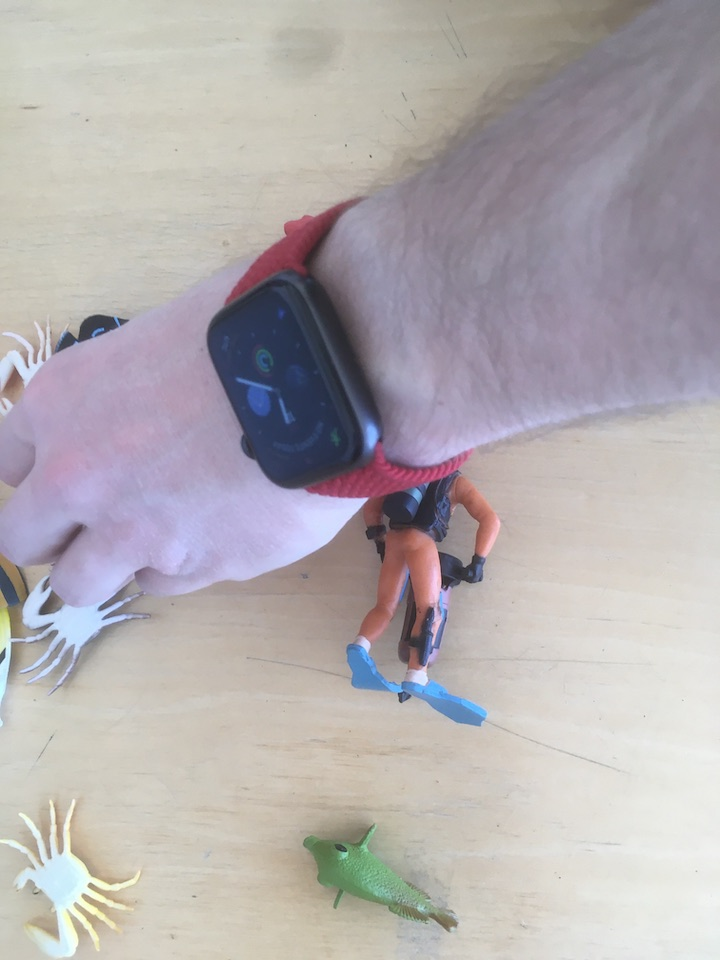crab: (1, 793, 145, 960), (16, 556, 159, 707)
diver: (346, 439, 508, 745)
fish: (297, 826, 470, 944)
